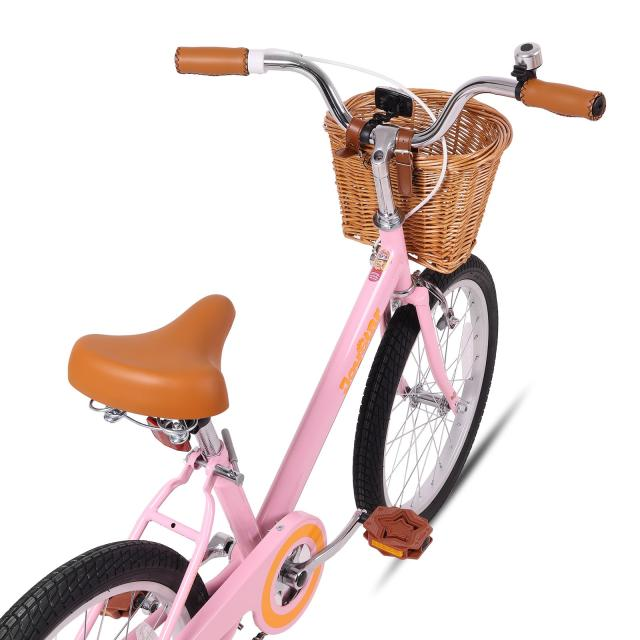urban-bike: (0, 44, 608, 640)
